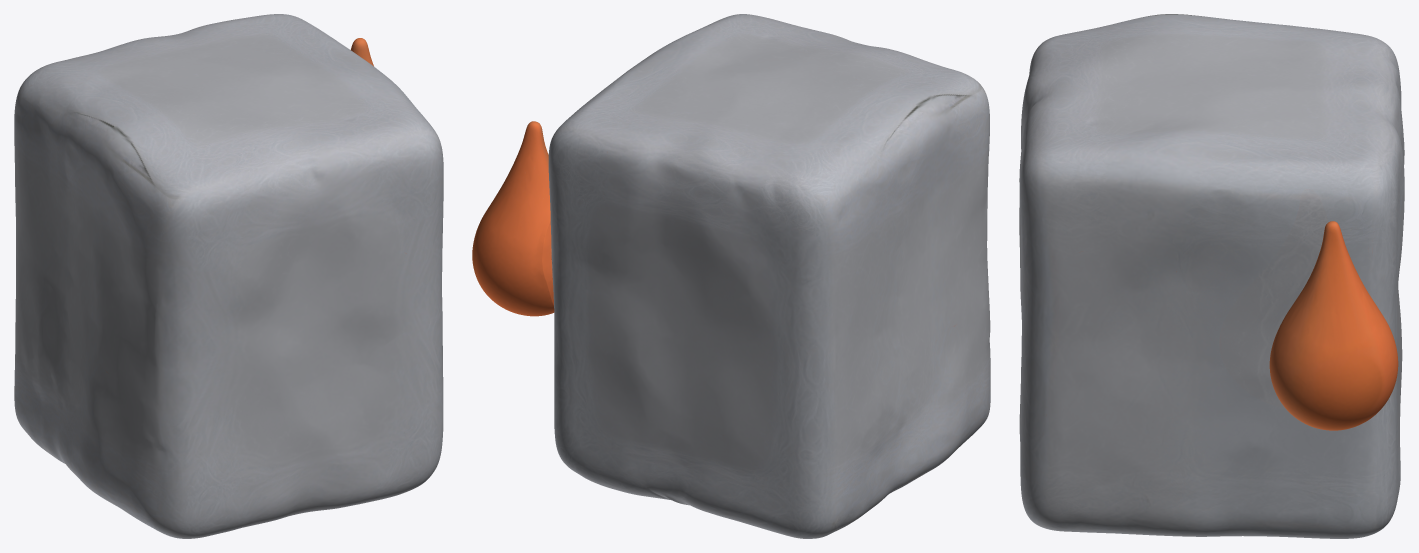
The model's file is ice_cube.glb.
3 renders of one model, left to right at view 1: azimuth 30°, elevation 25°; view 2: azimuth 150°, elevation 25°; view 3: azimuth 270°, elevation 25°, orthographic. The views are drawn at different scales.
Bounding box in the file's own units: 1.9 × 1.74 × 1.49.
Materials: 1 (1 with a texture image).
